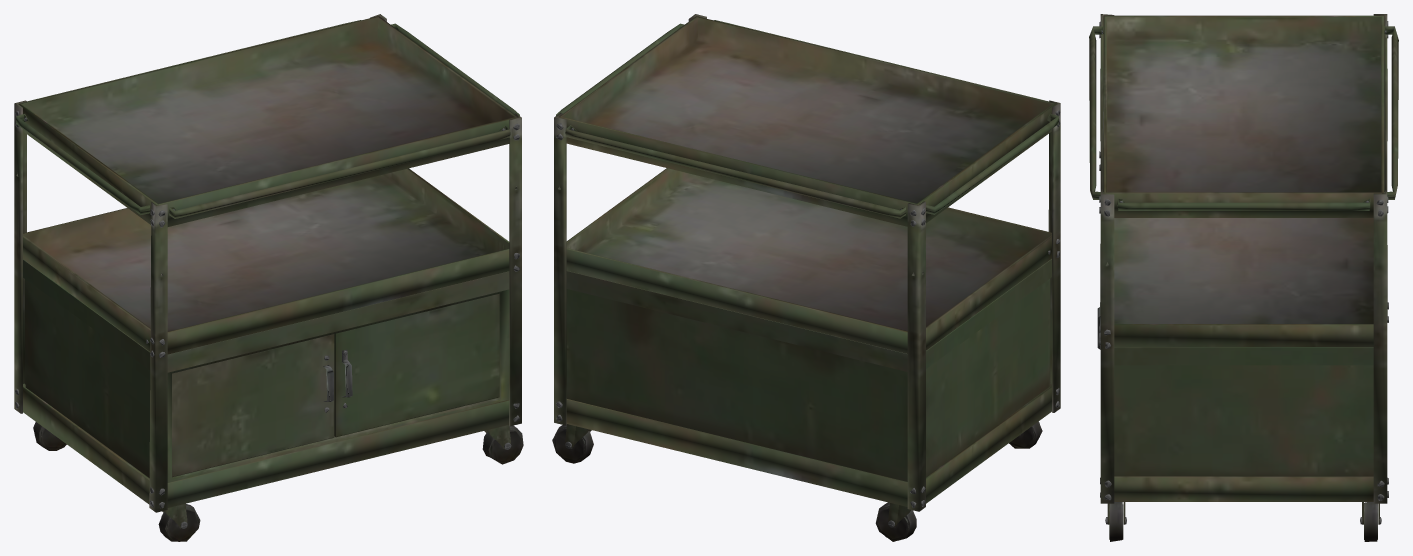
The model's file is industrial_storage_cart.gltf.
3 renders of one model, left to right at view 1: azimuth 30°, elevation 25°; view 2: azimuth 150°, elevation 25°; view 3: azimuth 270°, elevation 25°, orthographic.
Parts seen in each view (by area): view 1: industrial_storage_cart; view 2: industrial_storage_cart; view 3: industrial_storage_cart.
Boxes of the visible parts, box(x1,y1,x2,y2) form: industrial_storage_cart: box(14, 14, 523, 541); industrial_storage_cart: box(552, 14, 1060, 541); industrial_storage_cart: box(1089, 14, 1398, 541).
Size of the model in its own units: 1.6 by 1.38 by 1.1.
Materials: 1 (1 with a texture image).
